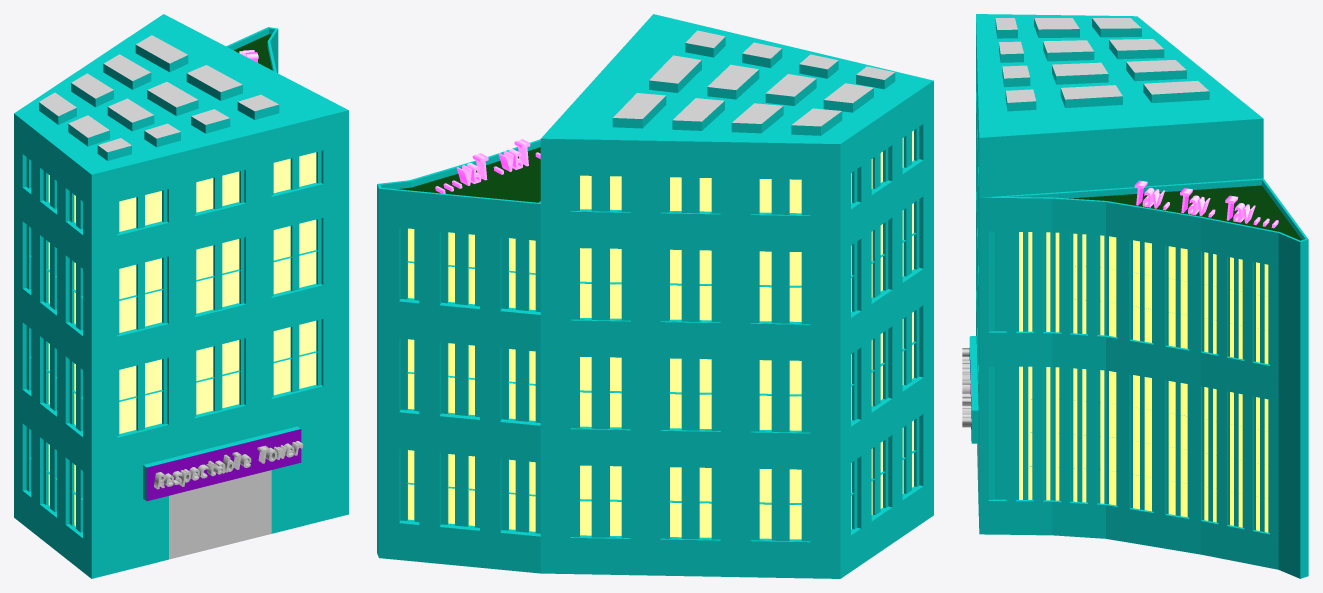
Rendered from respectable_tower.fbx.
3 renders of one model, left to right at view 1: azimuth 30°, elevation 25°; view 2: azimuth 150°, elevation 25°; view 3: azimuth 270°, elevation 25°, orthographic. The views are drawn at different scales.
Parts seen in each view (by area): view 1: Plane, Text; view 2: Plane, Text.001; view 3: Plane, Text.001, Text.
Boxes of the visible parts, <box> form: Plane: <box>14,14,348,578</box>; Text: <box>154,441,303,489</box>; Plane: <box>377,14,933,578</box>; Text.001: <box>435,139,540,193</box>; Plane: <box>969,14,1308,578</box>; Text.001: <box>1134,180,1278,228</box>; Text: <box>962,348,971,427</box>.
Size of the model in its own units: 708 by 794 by 615.
